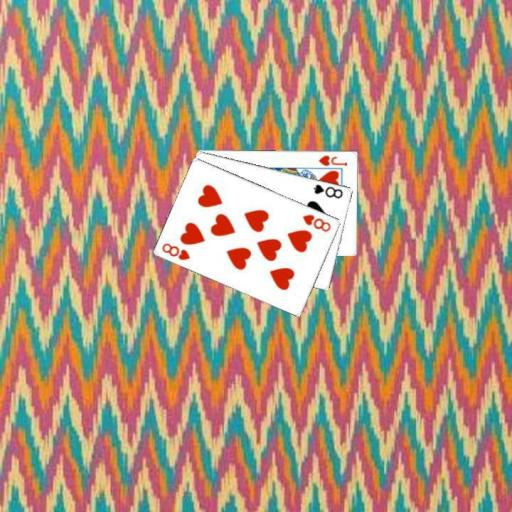card-corner: (299, 211, 333, 233), (159, 240, 192, 262), (310, 180, 345, 200), (316, 152, 348, 167)
